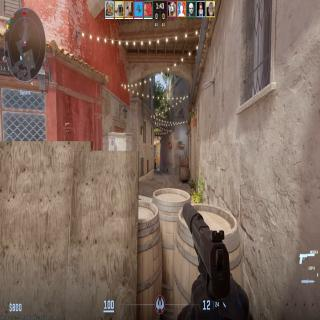T-Body: (154, 158, 157, 170)
T-Head: (154, 158, 156, 161)
